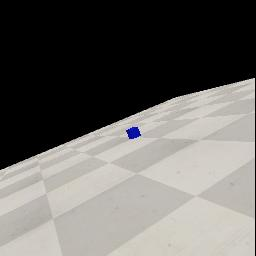box: (126, 127, 141, 139)
